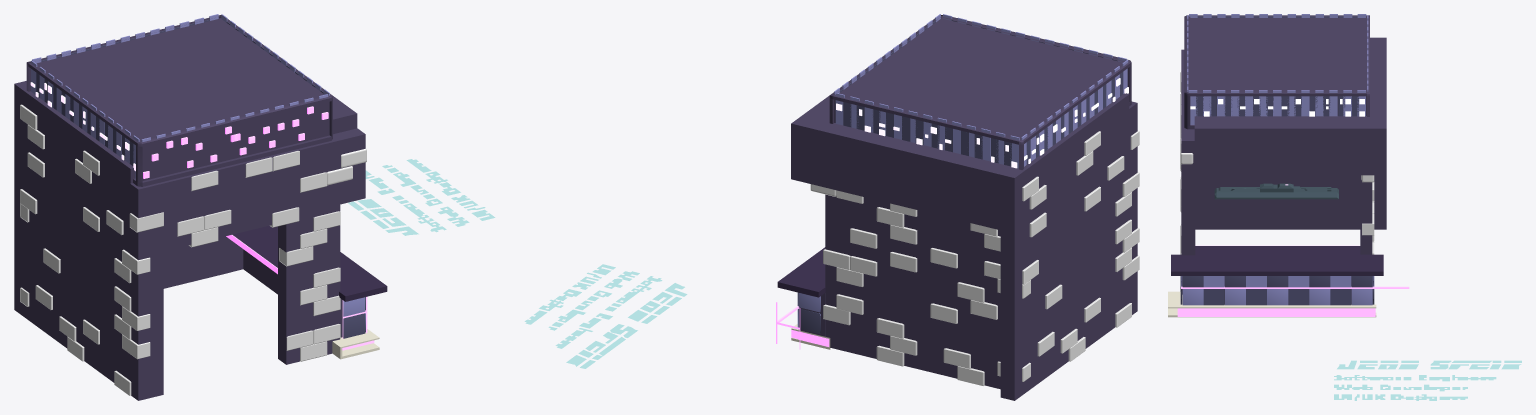
Rendered from compressed_ShopWalls.glb.
3 renders of one model, left to right at view 1: azimuth 30°, elevation 25°; view 2: azimuth 150°, elevation 25°; view 3: azimuth 270°, elevation 25°, orthographic. The views are drawn at different scales.
Parts seen in each view (by area): view 1: RoofExtension1, backWall, rightWall, RoofExtension, Bar, leftWall, Text.003, Tile1, BarWall, tile.002, RoofTiles1, warningFloorSign (+17 smaller); view 2: backWall, leftWall, RoofExtension1, RoofExtension, Tiles2, Tile1.001, Text.003, Tile1, AboutMe, Bar, rightWall, tile.002 (+1 smaller); view 3: backWall, RoofExtension1, Bar, tile.007, rightWall, RoofExtension, Cube.002, Plane.018, BarLight, tile.006, Text.003, Cube.006 (+8 smaller).
Part boxes in pixels (box(x1,y1,x2,y2)): RoofExtension1: box(36, 18, 329, 180); backWall: box(14, 44, 357, 382); rightWall: box(130, 128, 365, 400); RoofExtension: box(26, 15, 332, 186); Bar: box(226, 225, 387, 301); leftWall: box(163, 236, 230, 288); Text.003: box(365, 159, 495, 232); Tile1: box(31, 60, 139, 178); BarWall: box(231, 240, 342, 337); tile.002: box(36, 73, 133, 165); RoofTiles1: box(143, 106, 328, 178); warningFloorSign: box(332, 329, 379, 359); backWall: box(791, 68, 1129, 400); leftWall: box(825, 194, 1000, 389); RoofExtension1: box(834, 18, 1122, 140); RoofExtension: box(829, 15, 1131, 169); Tiles2: box(835, 93, 1019, 168); Tile1.001: box(843, 102, 1011, 166); Text.003: box(524, 264, 662, 348); Tile1: box(1021, 60, 1128, 166); AboutMe: box(566, 283, 687, 368); Bar: box(777, 247, 825, 297); rightWall: box(1129, 101, 1137, 314); tile.002: box(1026, 72, 1123, 164); backWall: box(1194, 37, 1386, 229); RoofExtension1: box(1190, 18, 1366, 115); Bar: box(1171, 245, 1383, 275); tile.007: box(1188, 90, 1365, 124); rightWall: box(1181, 49, 1195, 294); RoofExtension: box(1184, 15, 1369, 129); Cube.002: box(1182, 289, 1372, 305); Plane.018: box(1177, 308, 1375, 316); BarLight: box(1214, 183, 1338, 199); tile.006: box(1196, 96, 1358, 116); Text.003: box(1334, 375, 1496, 400); Cube.006: box(1203, 289, 1351, 305).
Size of the model in its own units: 17.02 by 9.2 by 13.94.
